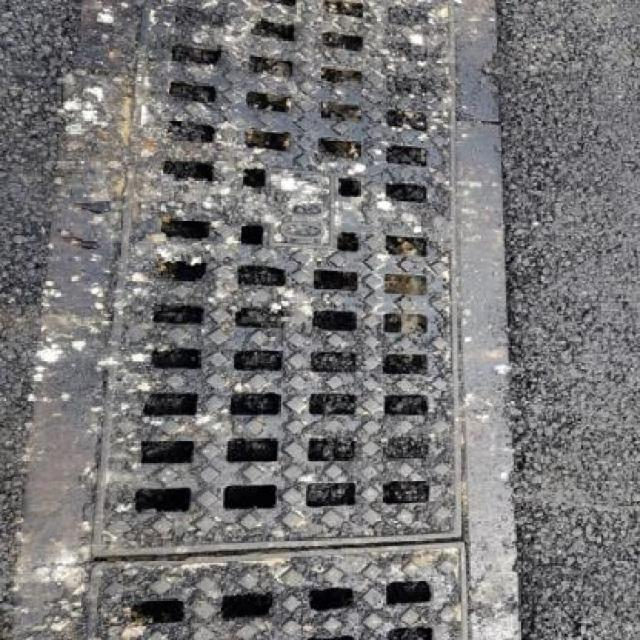Drain Hole: (103, 68, 506, 551)
